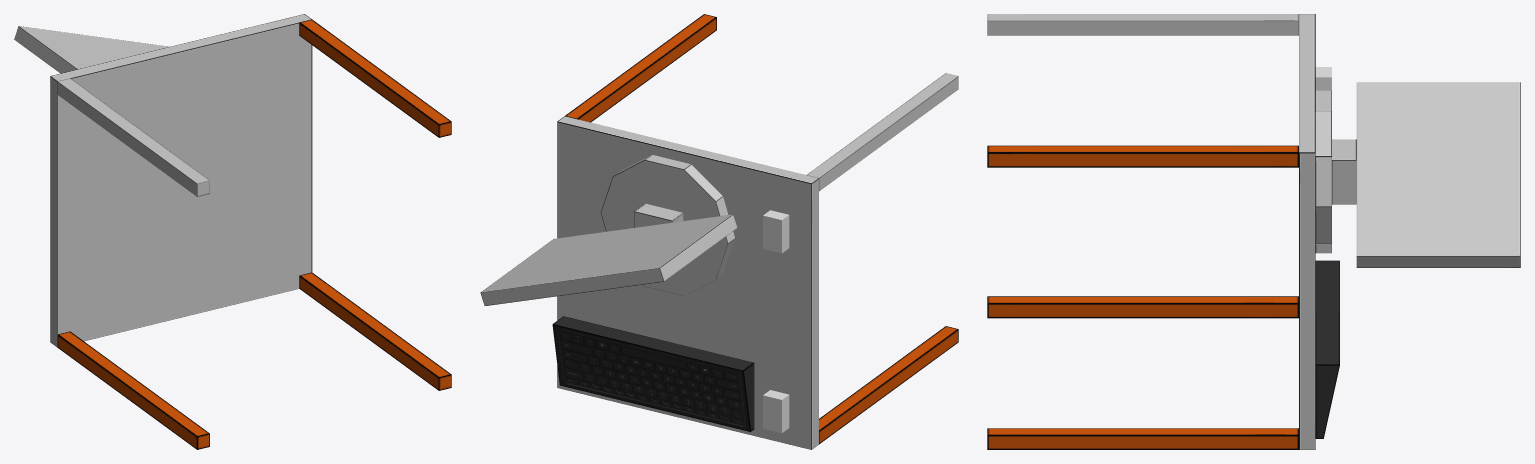
The model's file is desk2.dae.
3 renders of one model, left to right at view 1: azimuth 30°, elevation 25°; view 2: azimuth 150°, elevation 25°; view 3: azimuth 270°, elevation 25°, orthographic. The views are drawn at different scales.
Parts seen in each view (by area): view 1: desk-surface, leg_002, leg, leg_003, leg_001, screen; view 2: desk-surface, screen, keyboad, leg, leg_003, leg_001, pee, mouse; view 3: screen, desk-surface, leg_003, leg_001, leg_002, leg, keyboad.
Boxes of the visible parts, x1=… form: desk-surface: x1=50, y1=14, x2=312, y2=347; leg_002: x1=299, y1=272, x2=451, y2=390; leg: x1=57, y1=78, x2=209, y2=196; leg_003: x1=57, y1=331, x2=209, y2=449; leg_001: x1=299, y1=19, x2=451, y2=137; screen: x1=14, y1=26, x2=169, y2=73; desk-surface: x1=557, y1=116, x2=818, y2=449; screen: x1=480, y1=154, x2=737, y2=305; keyboad: x1=552, y1=316, x2=754, y2=431; leg: x1=806, y1=73, x2=958, y2=191; leg_003: x1=819, y1=326, x2=958, y2=444; leg_001: x1=565, y1=14, x2=716, y2=122; pee: x1=763, y1=210, x2=789, y2=253; mouse: x1=763, y1=390, x2=789, y2=432; screen: x1=1315, y1=82, x2=1520, y2=267; desk-surface: x1=1299, y1=14, x2=1315, y2=449; leg_003: x1=987, y1=296, x2=1298, y2=318; leg_001: x1=987, y1=145, x2=1298, y2=167; leg_002: x1=987, y1=428, x2=1298, y2=449; leg: x1=987, y1=14, x2=1298, y2=35; keyboad: x1=1315, y1=260, x2=1339, y2=438.
Size of the model in its own units: 2 by 3.25 by 2.
Materials: 7 (7 with a texture image).
